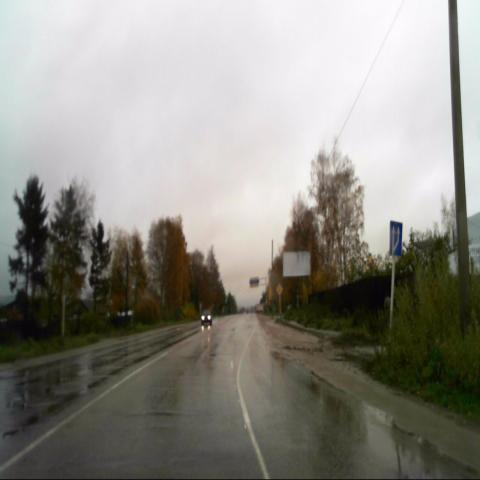5_15_3: (388, 219, 404, 257)
